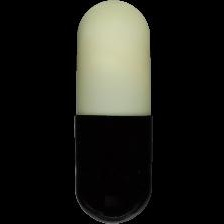68084-446: (0, 0, 224, 224)
